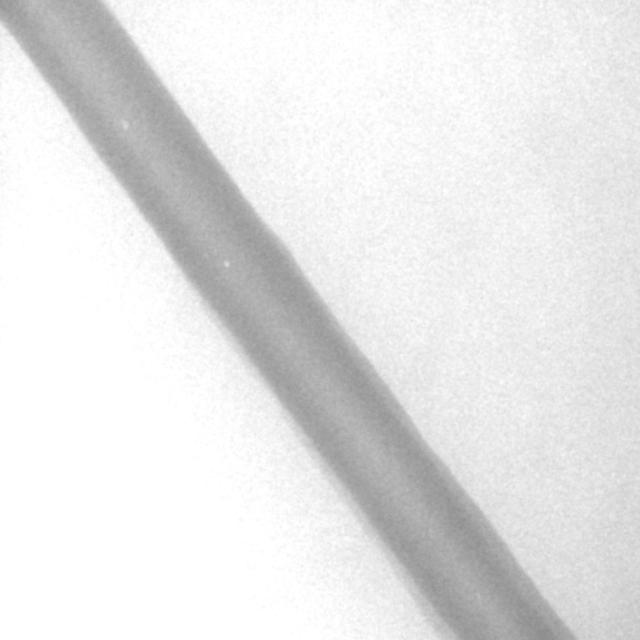air-hole: (120, 118, 129, 127)
